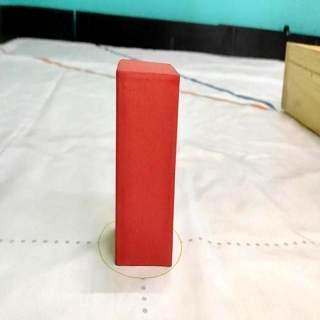redbox: (116, 57, 180, 268)
